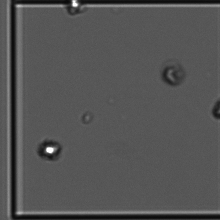Dead Cell: (160, 58, 193, 90)
Living Cell: (37, 133, 67, 167), (65, 1, 87, 19)
